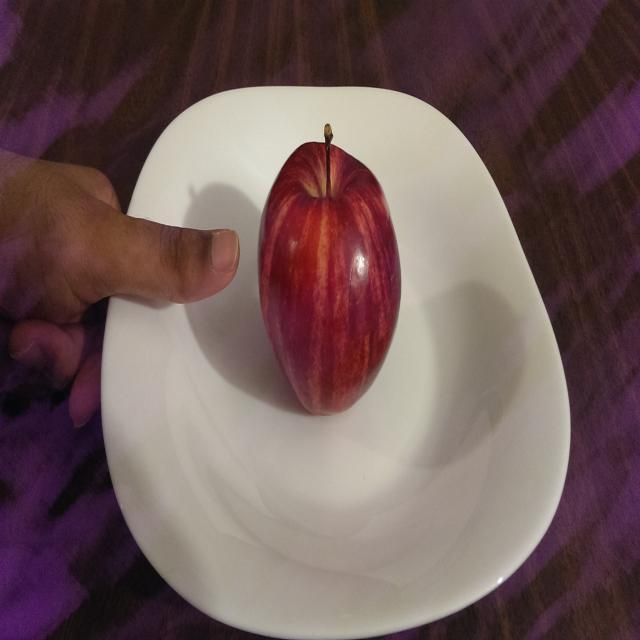Apple: (252, 115, 407, 422)
Finger: (147, 214, 245, 316)
